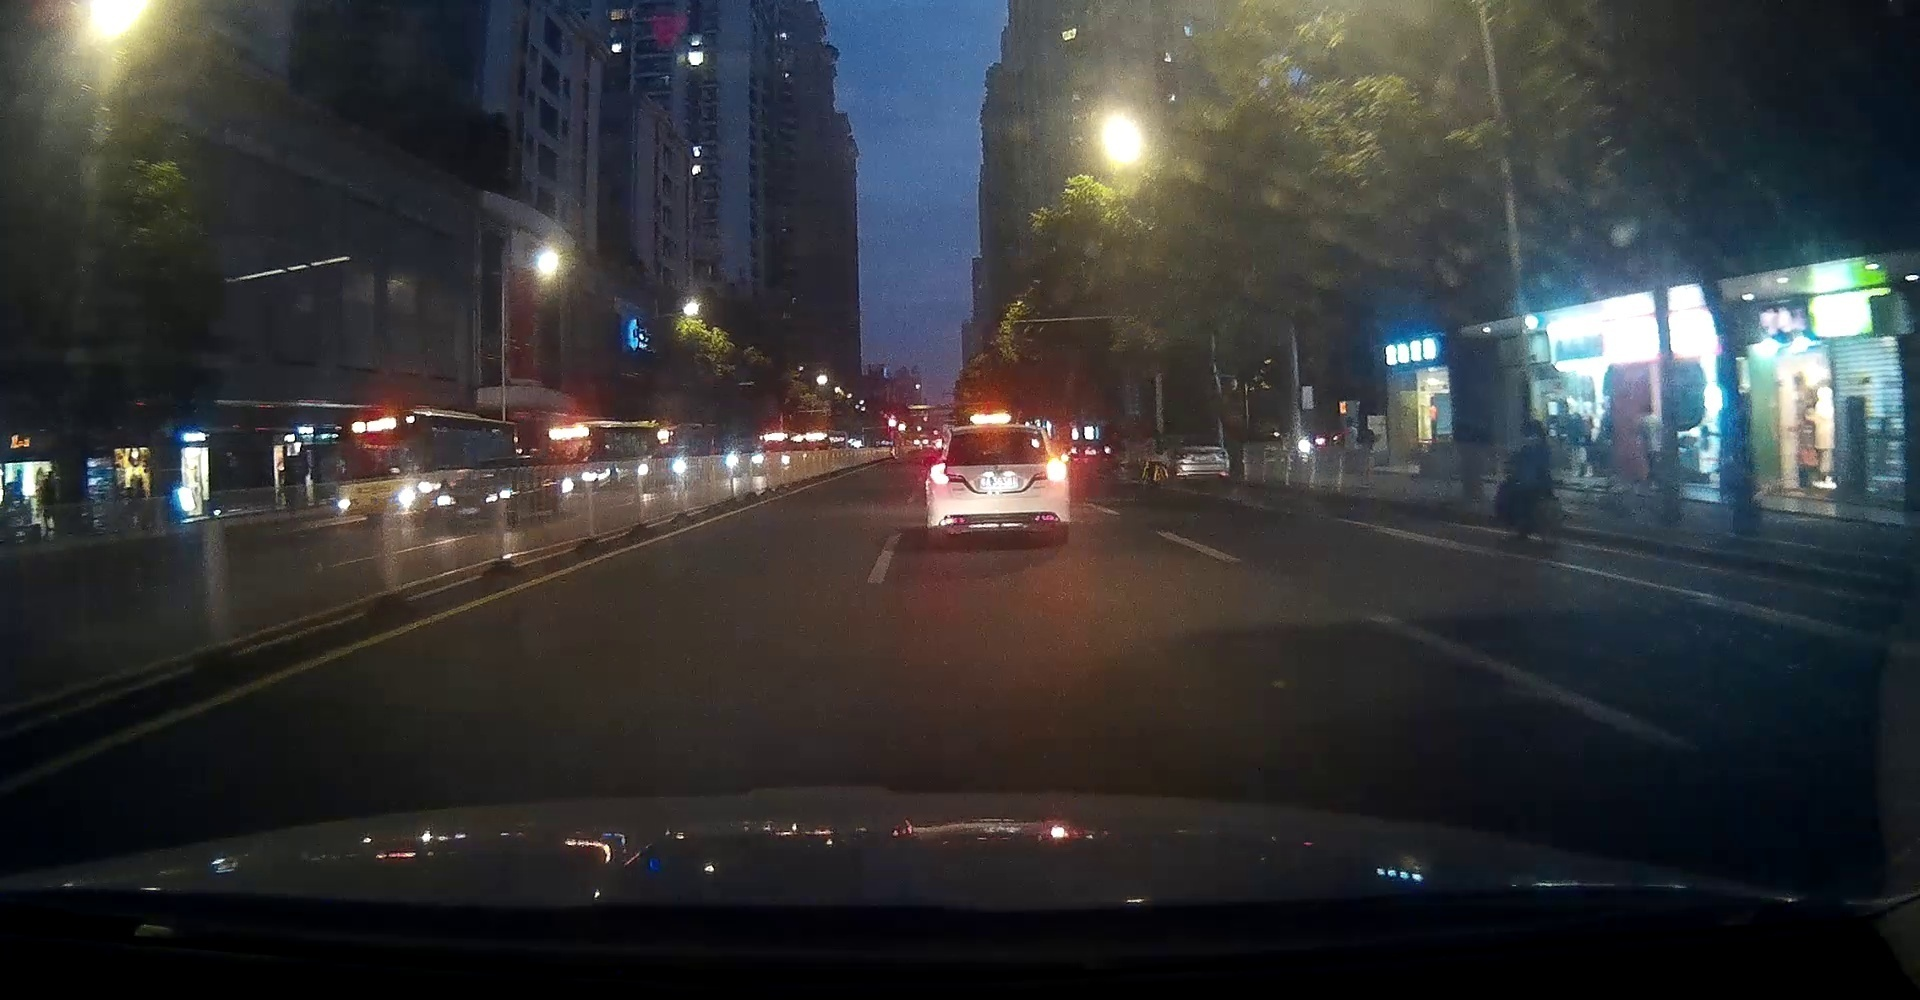L_light: (1048, 458, 1068, 482), (930, 463, 950, 486)
T_light: (983, 433, 1012, 440)
night-no: (924, 424, 1070, 544)
